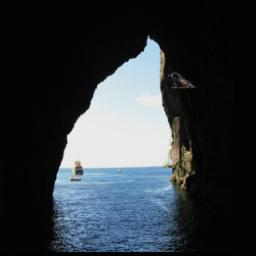Crow: (169, 73, 196, 88)
Cuckoo: (164, 117, 180, 168)
